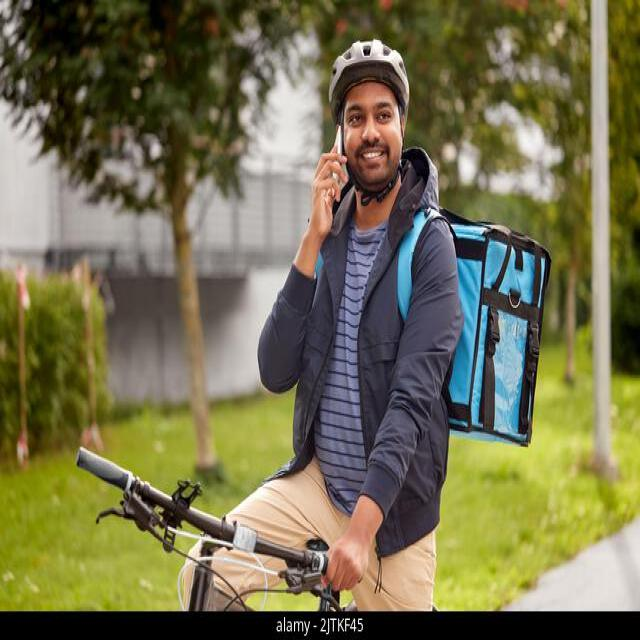Usage Of Phone While Riding: (281, 57, 429, 623)
